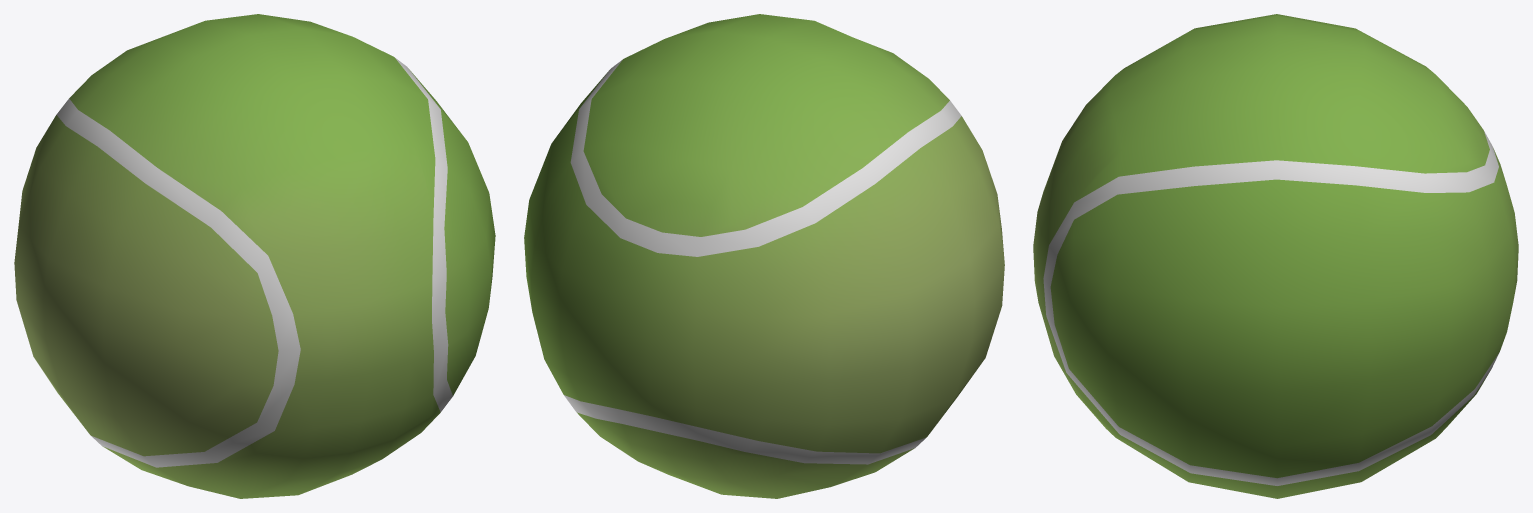
The model's file is human-sports-tennis-ball_v1.fbx.
3 renders of one model, left to right at view 1: azimuth 30°, elevation 25°; view 2: azimuth 150°, elevation 25°; view 3: azimuth 270°, elevation 25°, orthographic.
Parts seen in each view (by area): view 1: Tennis Ball; view 2: Tennis Ball; view 3: Tennis Ball.
Boxes of the visible parts, bbox=[...] form: Tennis Ball: bbox=[14, 14, 495, 498]; Tennis Ball: bbox=[524, 14, 1004, 498]; Tennis Ball: bbox=[1033, 14, 1518, 498].
Bounding box in the file's own units: 0.067 × 0.067 × 0.0668.
